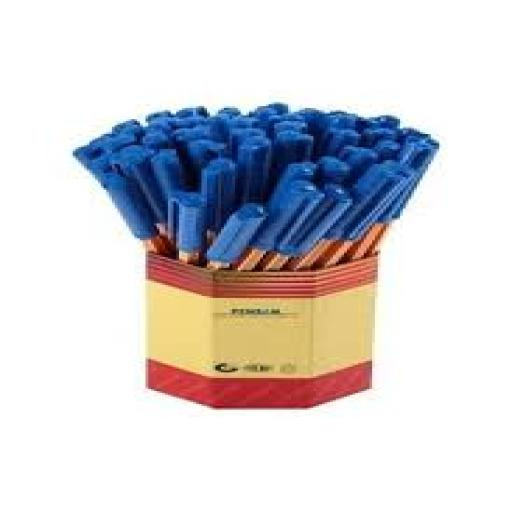tukenmez-kalem: (47, 69, 495, 287)
